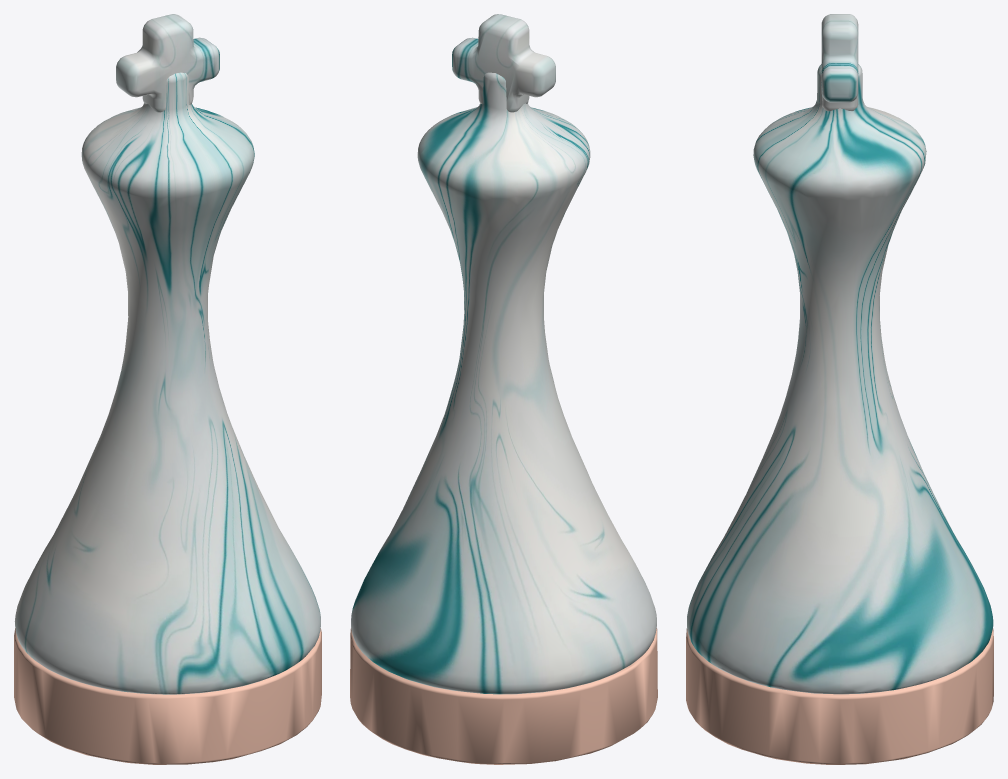
The model's file is king-white.glb.
The picture shows the model from 3 angles, left to right: view 1: azimuth 30°, elevation 25°; view 2: azimuth 150°, elevation 25°; view 3: azimuth 270°, elevation 25°; orthographic projection.
Parts seen in each view (by area): view 1: kral_bila; view 2: kral_bila; view 3: kral_bila.
Boxes of the visible parts, <box> form: kral_bila: <box>14,14,321,764</box>; kral_bila: <box>350,14,657,764</box>; kral_bila: <box>686,14,993,764</box>.
Size of the model in its own units: 0.675 by 1.65 by 0.6748.
2 materials, 1 textured.
